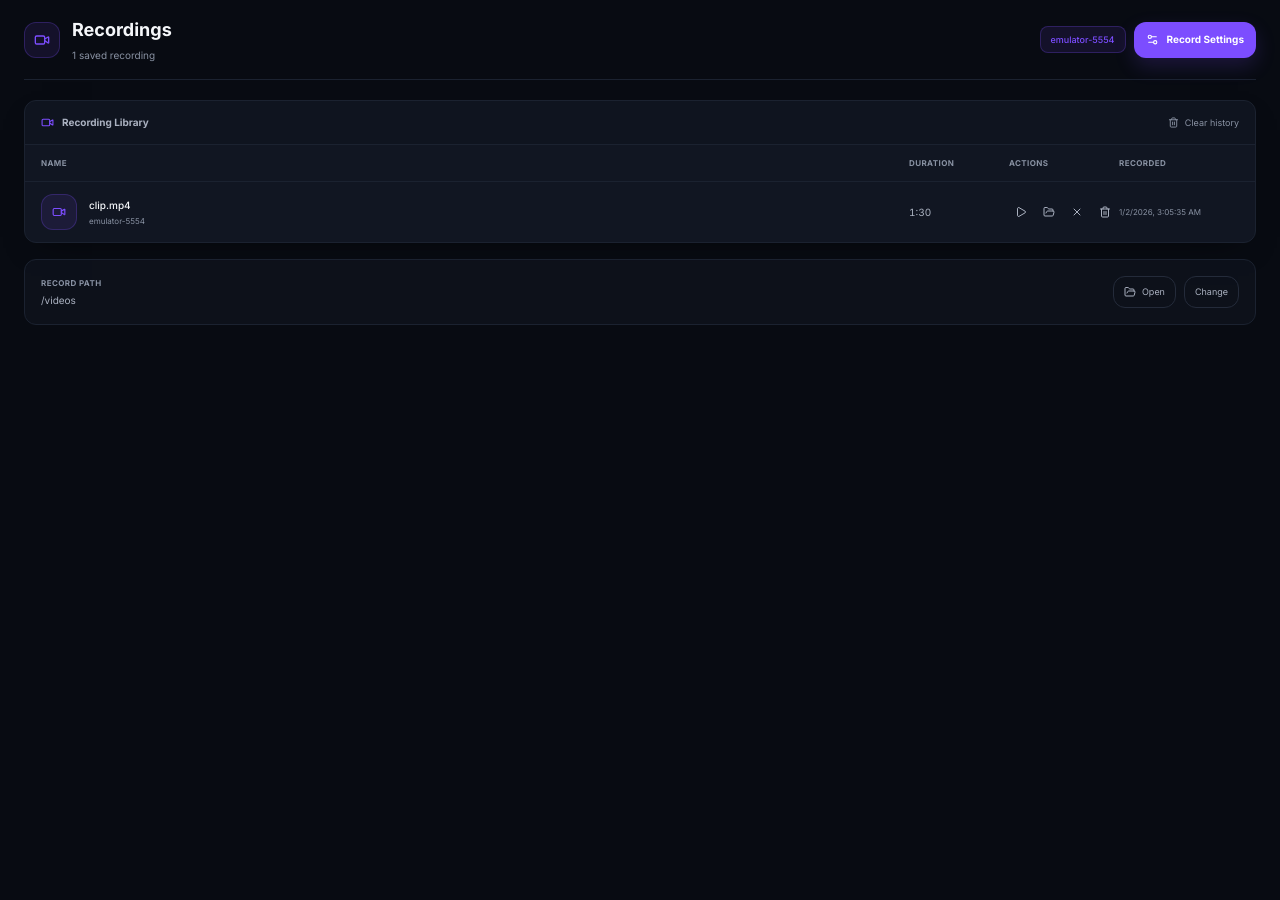
Test: RecordingsPage › opens the record settings drawer with the device controls and closes it
Click the button "Record Settings" at (1195,40), box [1134,22,1256,58]
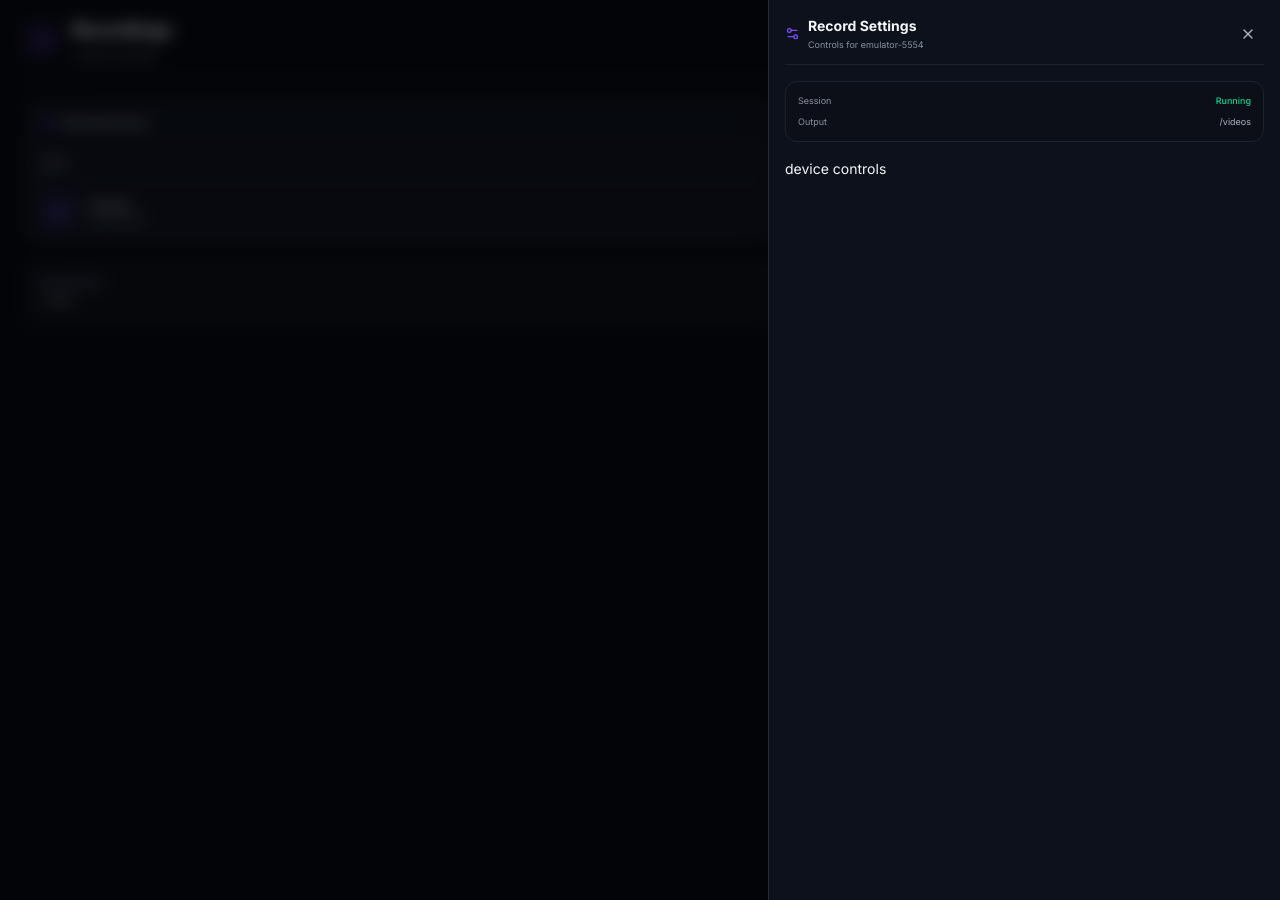
Now the text "device controls" is shown, box [785,160,886,176]
Now the text "Running" is shown, box [1216,94,1251,107]
Now the text "Controls for emulator-5554" is shown, box [808,38,924,52]
Click the button named "Close recording settings" at (1248,34), box [1232,18,1264,50]
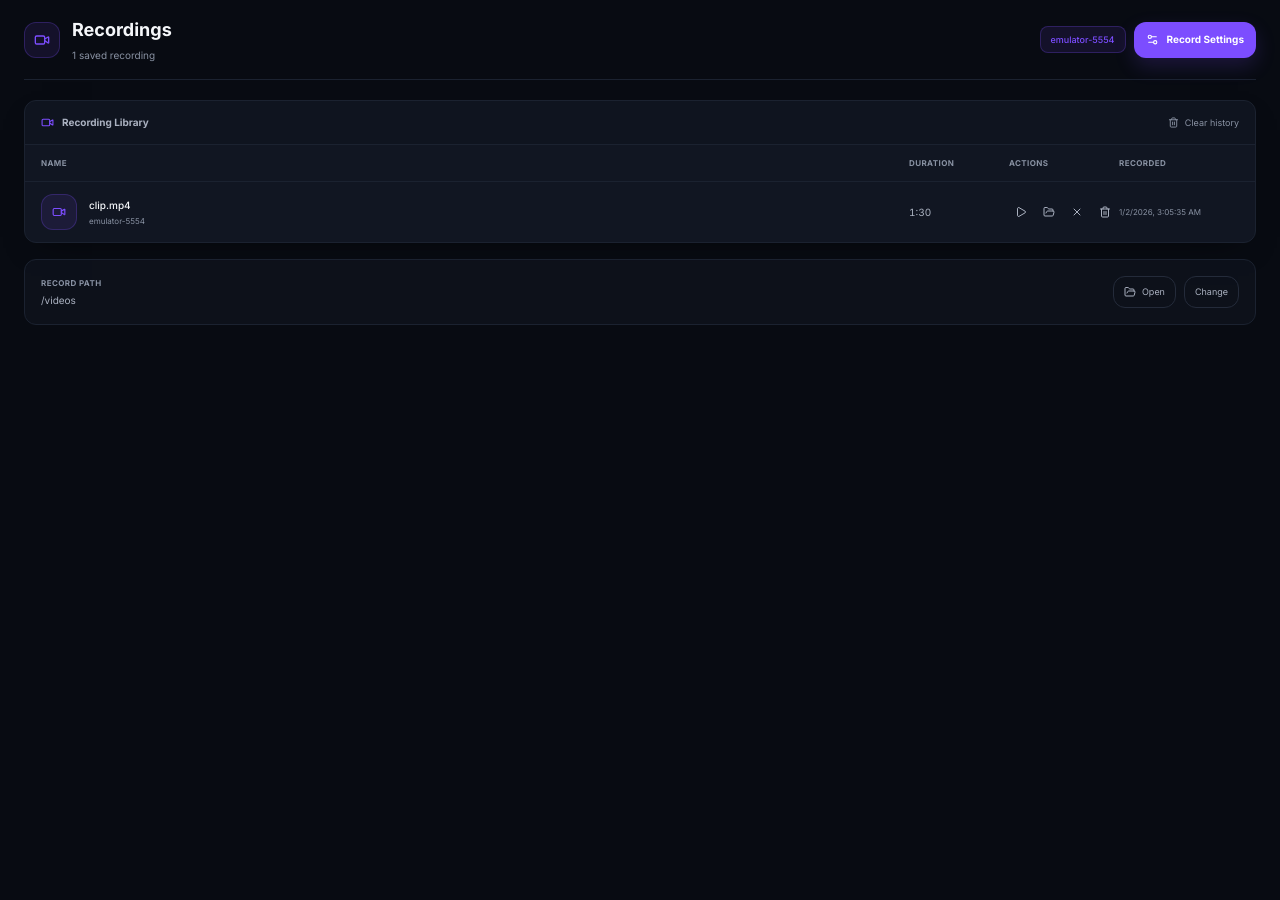
Now the dialog is gone
